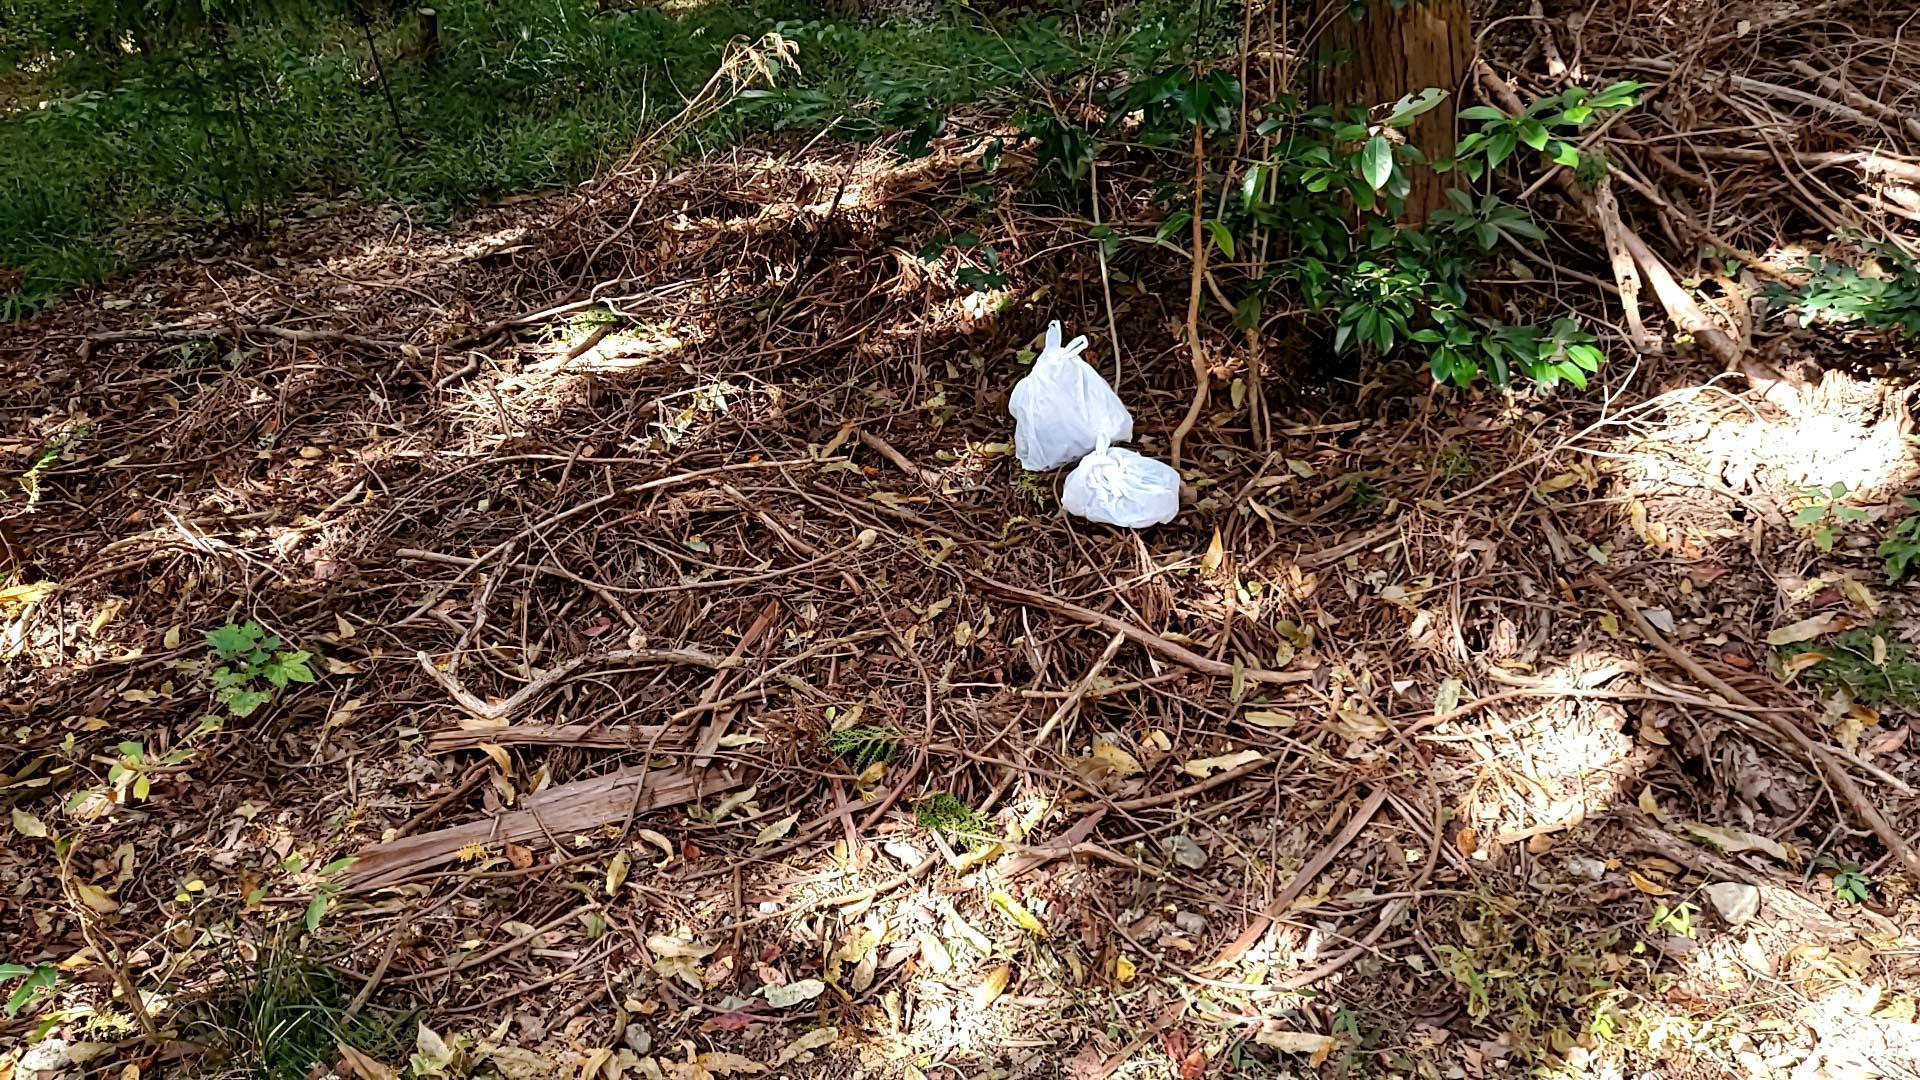white_bag: (996, 314, 1150, 473), (1050, 434, 1187, 538)
